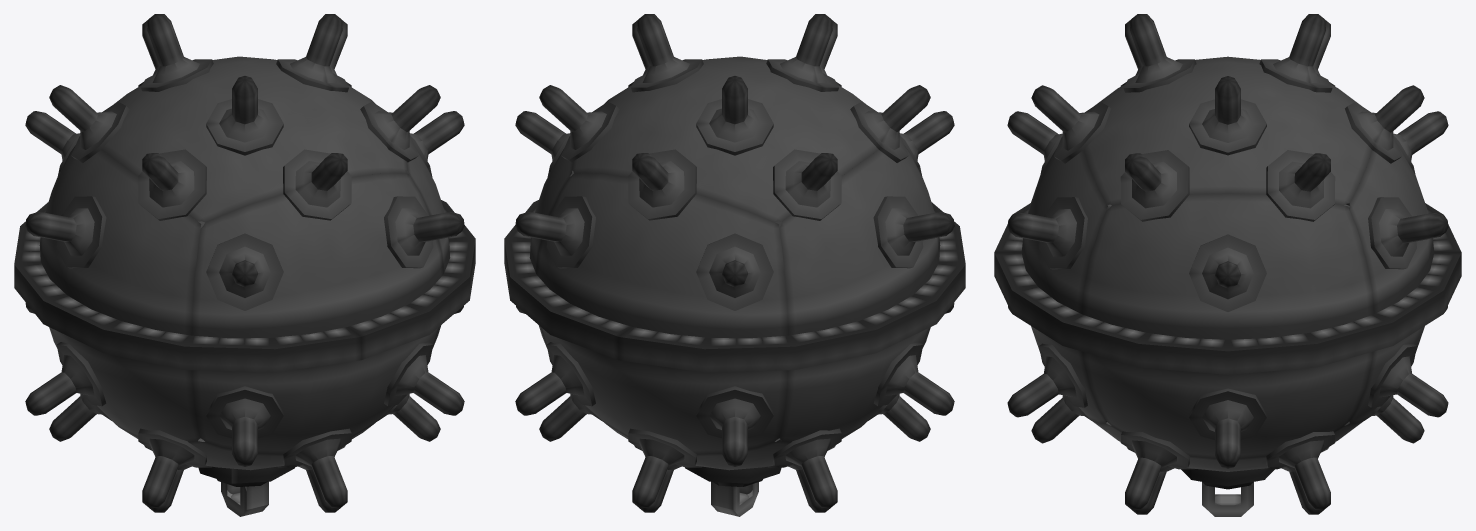
File: naval_mine.obj
3 views of the same model, side by side, from view 1: azimuth 30°, elevation 25°; view 2: azimuth 150°, elevation 25°; view 3: azimuth 270°, elevation 25° (orthographic).
Visible parts, largest first — view 1: naval_mine_model; view 2: naval_mine_model; view 3: naval_mine_model.
Boxes of the visible parts, x1,y1,x2,y2 form: naval_mine_model: [14, 14, 475, 516]; naval_mine_model: [504, 14, 965, 516]; naval_mine_model: [994, 14, 1461, 516].
Size of the model in its own units: 2.43 by 2.53 by 2.25.
